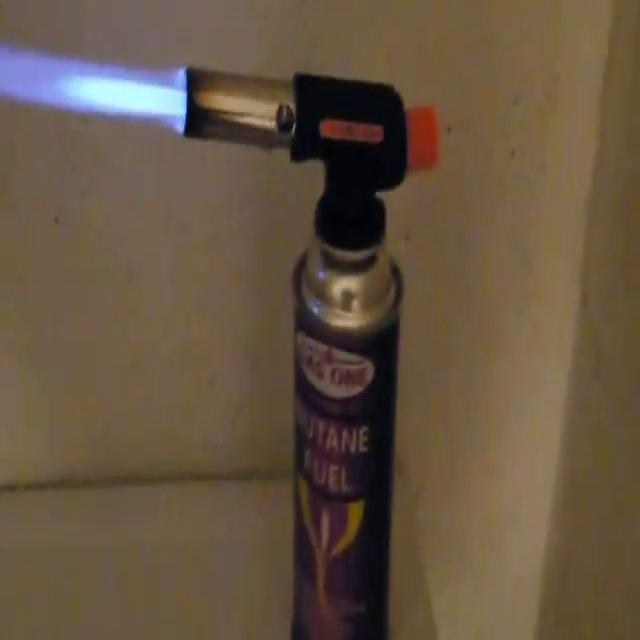fire: (0, 27, 186, 169)
